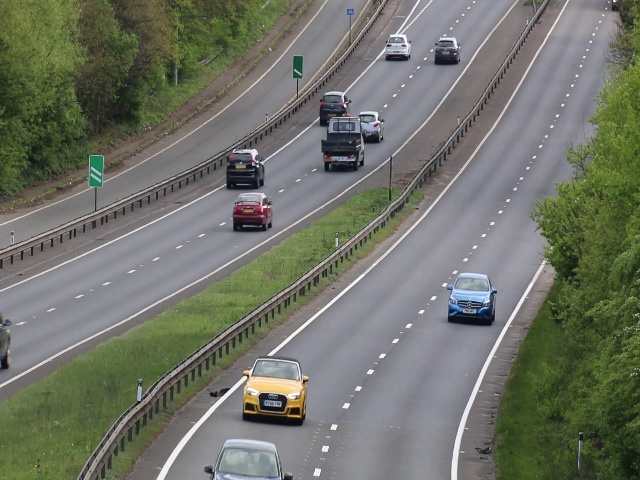car: (241, 355, 308, 425), (208, 441, 286, 480), (448, 271, 497, 324), (319, 119, 364, 169), (231, 191, 274, 231), (226, 148, 265, 188), (433, 36, 461, 65), (317, 90, 349, 115), (385, 33, 412, 60), (362, 110, 382, 141)
